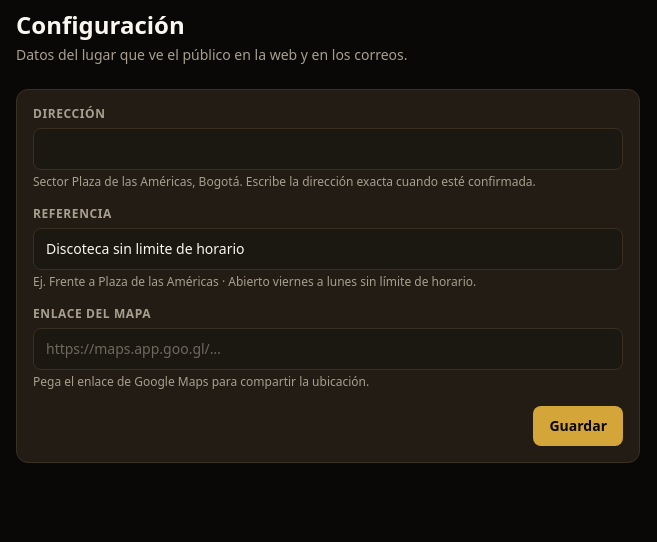
it: Configuración › carga los datos del lugar y guarda la dirección
Expected: the field showing "Discoteca sin limite de horario" is shown, left=33, top=228, right=623, bottom=270
Type "Cra 71D # 6-94 Sur" into the field labelled "Dirección" at x=328, y=149, box left=33, top=128, right=623, bottom=170
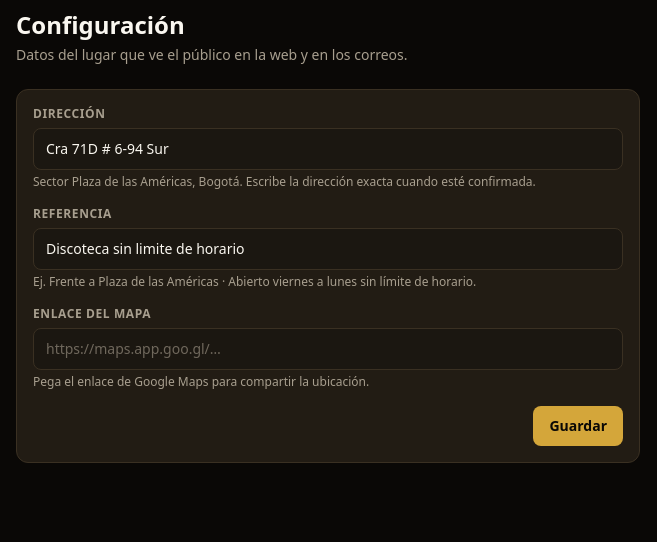
Click the button "Guardar" at x=578, y=426, box left=534, top=406, right=623, bottom=446
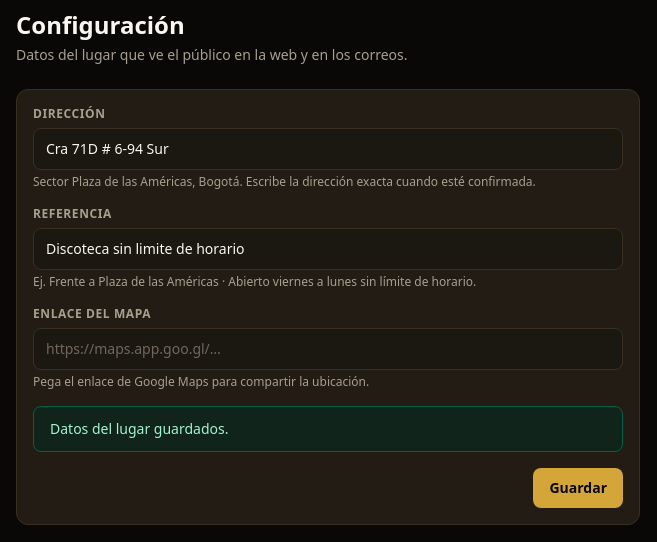
Expected: the text "Datos del lugar guardados." is shown, left=33, top=406, right=623, bottom=452
